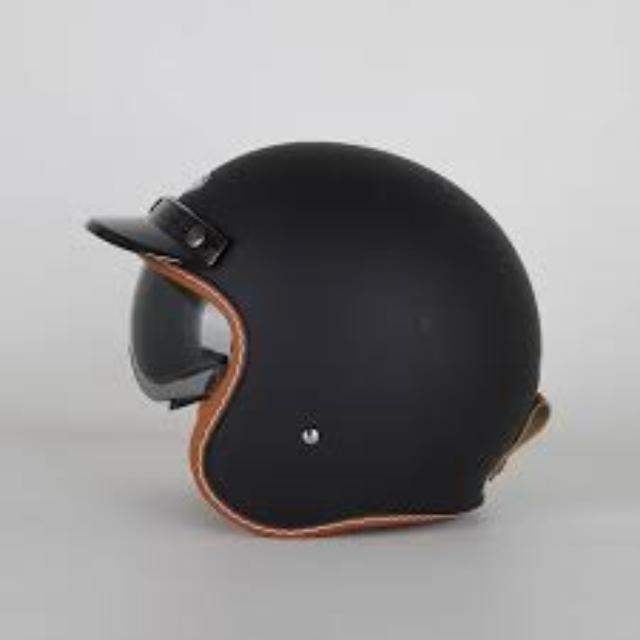motorcycle-helmets: (91, 142, 546, 535)
